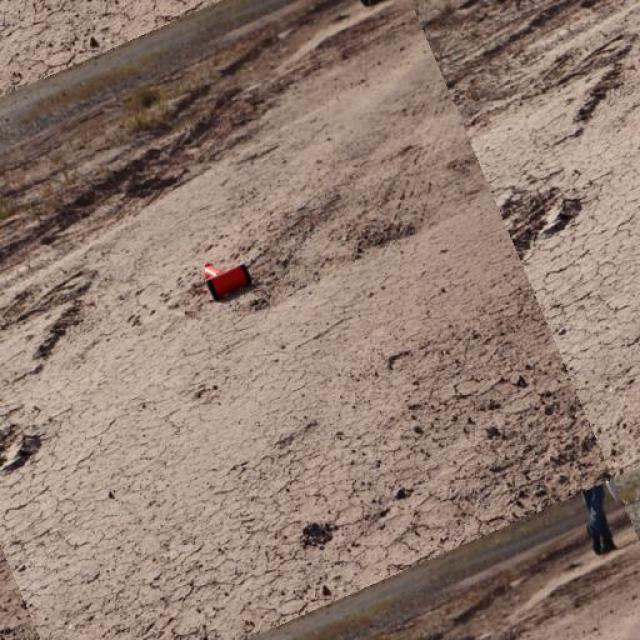mallet: (202, 260, 252, 300)
